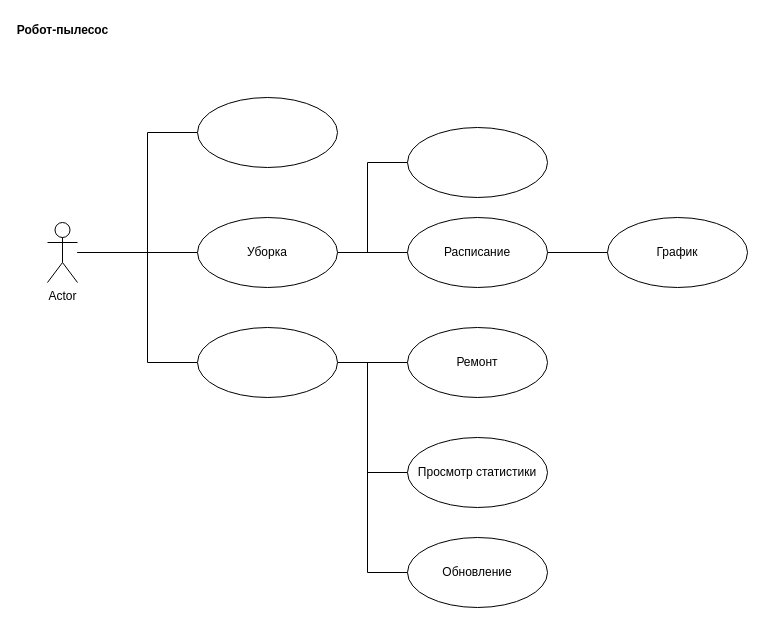
This 765x625 diagram has some shape labels left out. The shapes that lost their labels are listed below. From the top down, each one's centre as x and y in pixels, then its label:
At point (267, 132): "Подключение".
At point (477, 162): "Выбор режима".
At point (267, 362): "Обслуживание".
